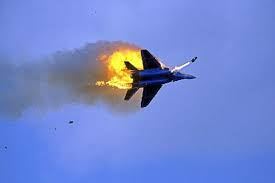fighter: (121, 48, 201, 110)
